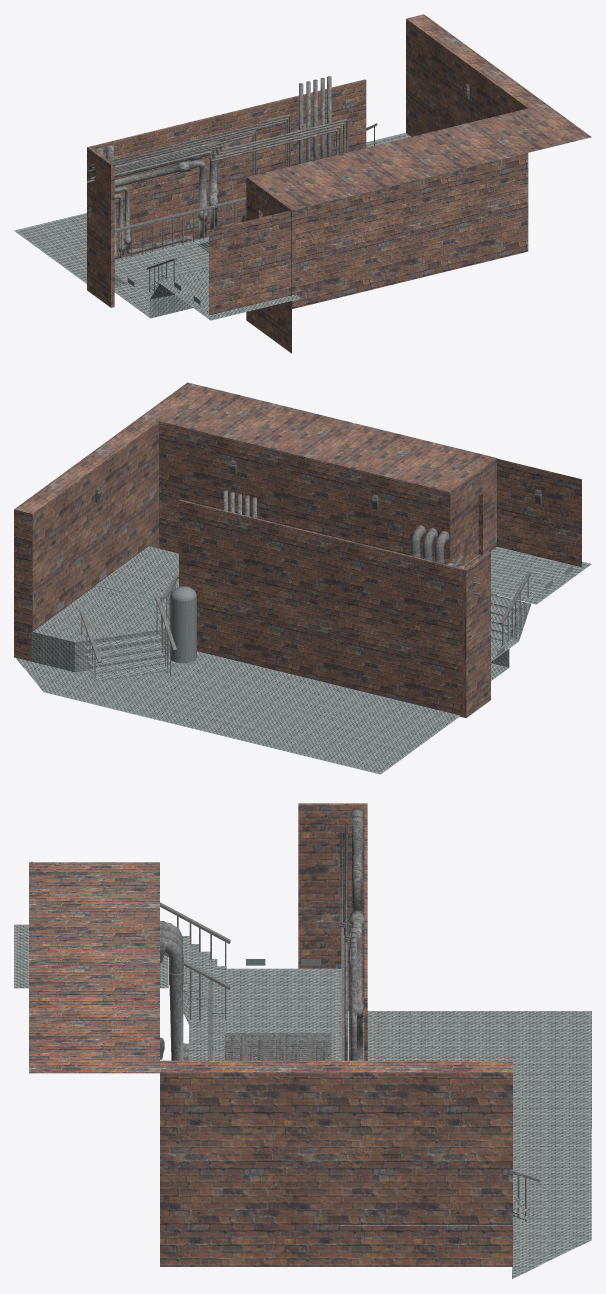
Rendered from corridor.obj.
3 views of the same model, one above another, from view 1: azimuth 30°, elevation 25°; view 2: azimuth 150°, elevation 25°; view 3: azimuth 270°, elevation 25° (orthographic). The views are drawn at different scales.
Visible parts, largest first — view 1: pPlane7, pCylinder5, pPlane4, pCube8; view 2: pPlane7, pPlane4, pTorus13_polySurface3, pCube8, polySurface10, pCylinder5; view 3: pPlane7, pPlane4, pCylinder5, greats29, pCube8, polySurface10.
Part boxes in pixels (x1,y1,x2,y2): pPlane7: (87, 14, 591, 353); pCylinder5: (87, 76, 348, 259); pPlane4: (14, 132, 411, 320); pCube8: (114, 123, 377, 297); pPlane7: (14, 382, 581, 717); pPlane4: (16, 546, 591, 774); pTorus13_polySurface3: (57, 565, 572, 663); pCube8: (79, 555, 530, 678); polySurface10: (410, 525, 449, 563); pCylinder5: (223, 490, 481, 637); pPlane7: (29, 803, 512, 1266); pPlane4: (14, 924, 591, 1278); pCylinder5: (340, 808, 364, 1060); greats29: (223, 1033, 331, 1060); pCube8: (160, 902, 539, 1221); polySurface10: (160, 921, 188, 1060).
Bounding box in the file's own units: 114 × 48.48 × 101.
Materials: 7 (7 with a texture image).
